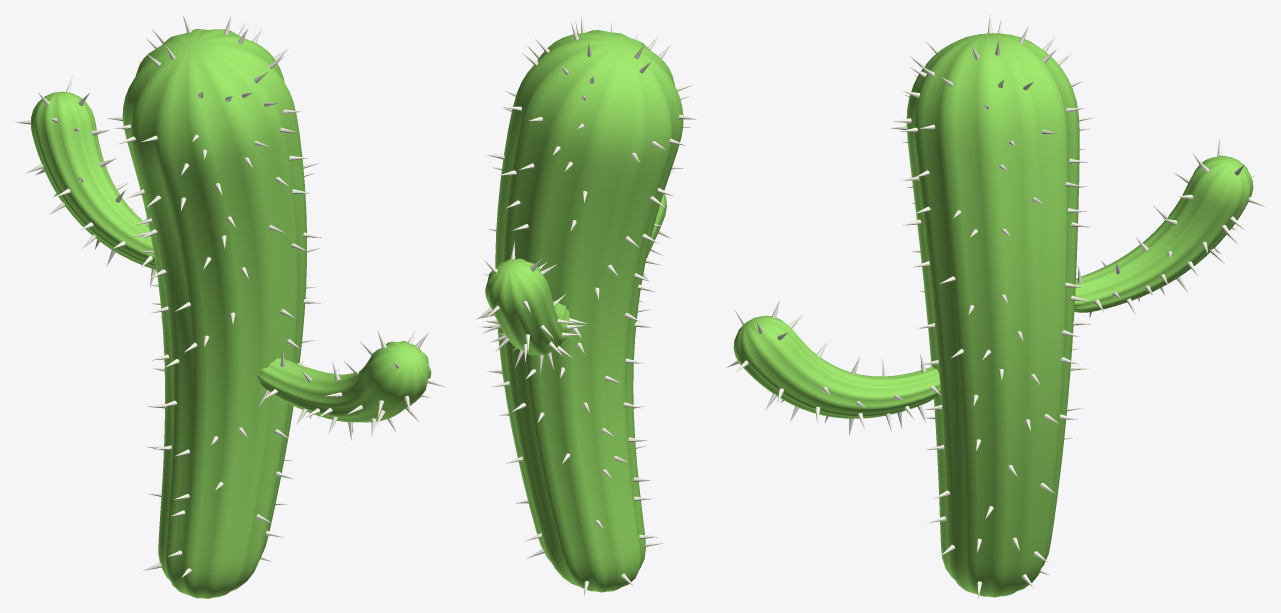
Rendered from Cactus01.fbx.
3 views of the same model, side by side, from view 1: azimuth 30°, elevation 25°; view 2: azimuth 150°, elevation 25°; view 3: azimuth 270°, elevation 25° (orthographic).
Parts seen in each view (by area): view 1: cactus01; view 2: cactus01; view 3: cactus01.
Part boxes in pixels (left/top/right/bottom): cactus01: left=15, top=15, right=445, bottom=598; cactus01: left=476, top=15, right=696, bottom=597; cactus01: left=727, top=15, right=1265, bottom=597.
Bounding box in the file's own units: 106 × 279 × 242.
